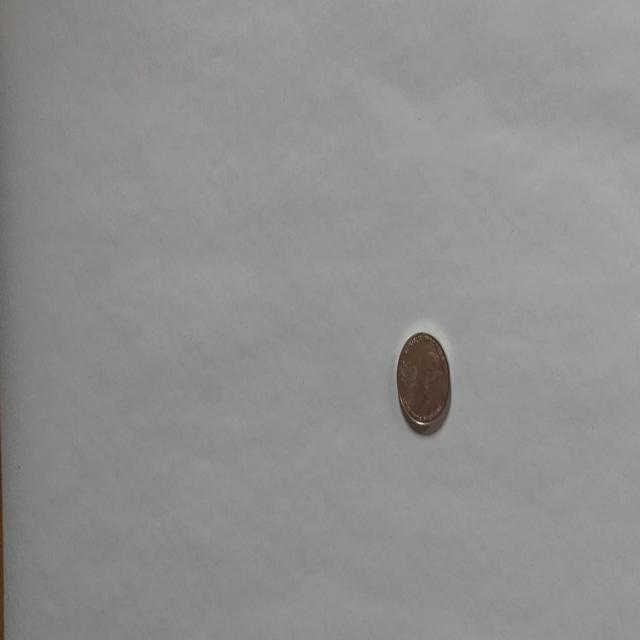lima ratus rupiah: (395, 330, 451, 434)
